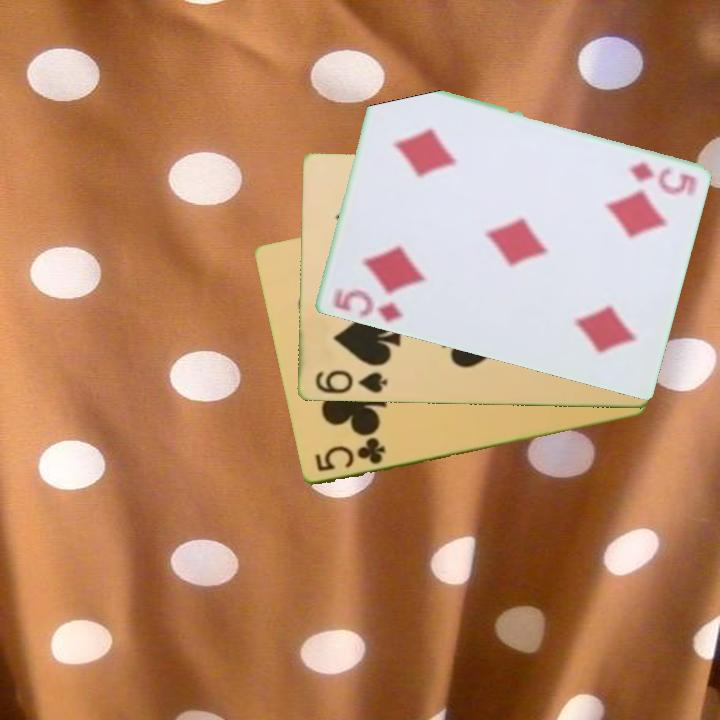5c: (311, 434, 389, 475)
5d: (328, 285, 405, 325), (625, 159, 700, 197)
6s: (311, 367, 390, 397)
